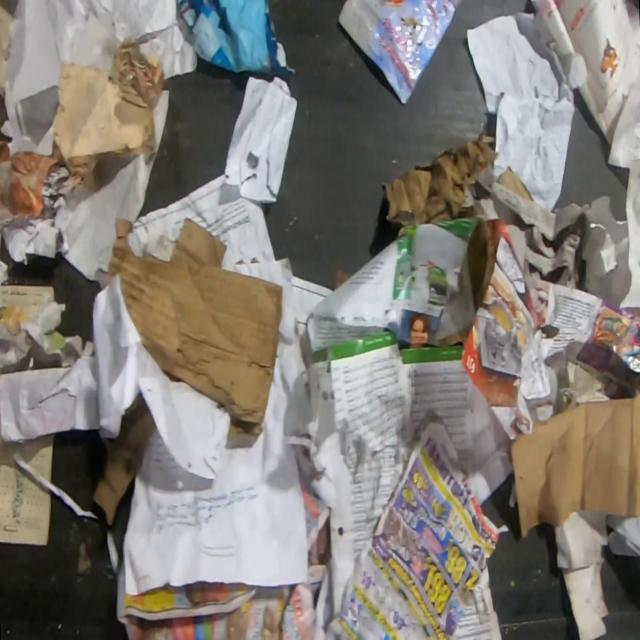cardboard: (104, 214, 283, 441), (508, 386, 640, 538), (379, 129, 501, 228), (90, 392, 157, 528), (555, 512, 610, 640), (557, 361, 610, 406), (498, 164, 533, 201)
soft_plastic: (337, 0, 457, 106)
